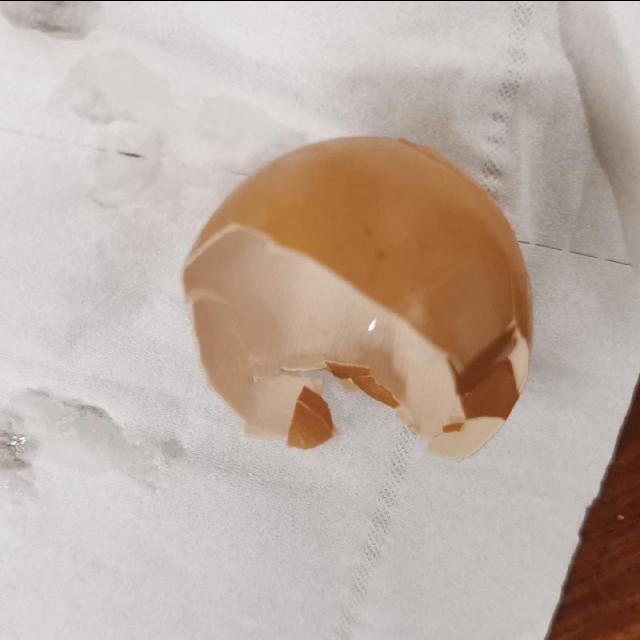egg shell: (182, 131, 542, 455)
